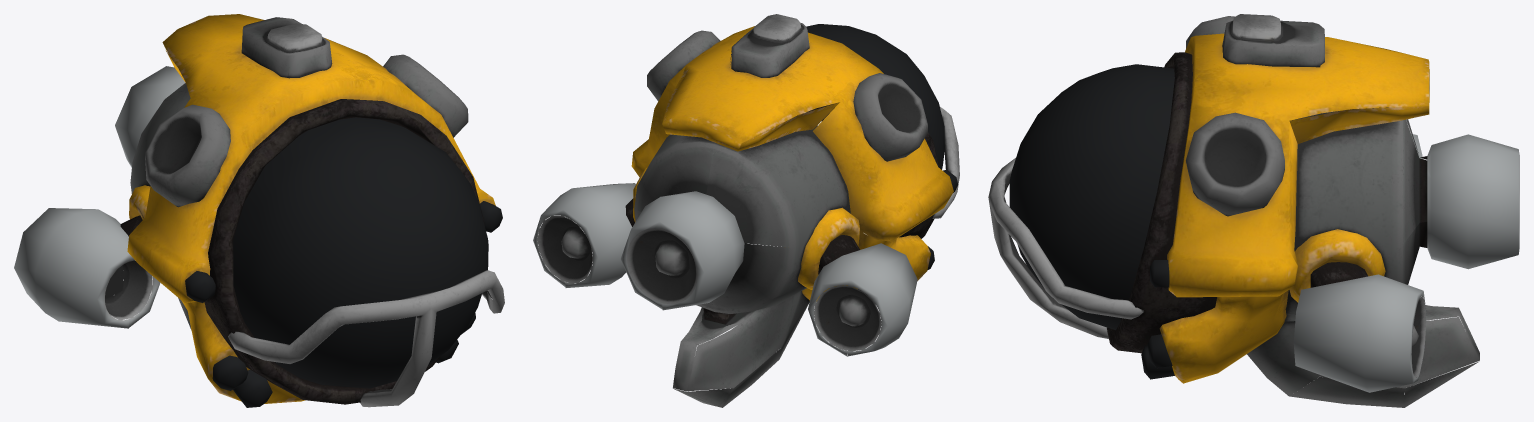
File: player_old_LOD1.gltf
The picture shows the model from 3 angles, left to right: view 1: azimuth 30°, elevation 25°; view 2: azimuth 150°, elevation 25°; view 3: azimuth 270°, elevation 25°; orthographic projection. The views are drawn at different scales.
Parts seen in each view (by area): view 1: Object_2; view 2: Object_2; view 3: Object_2.
Part boxes in pixels (x1,y1,x2,y2): Object_2: (14,14,504,407); Object_2: (533,14,959,407); Object_2: (988,14,1519,407).
Bounding box in the file's own units: 4.9 × 4.37 × 5.53.
Materials: 1 (1 with a texture image).
